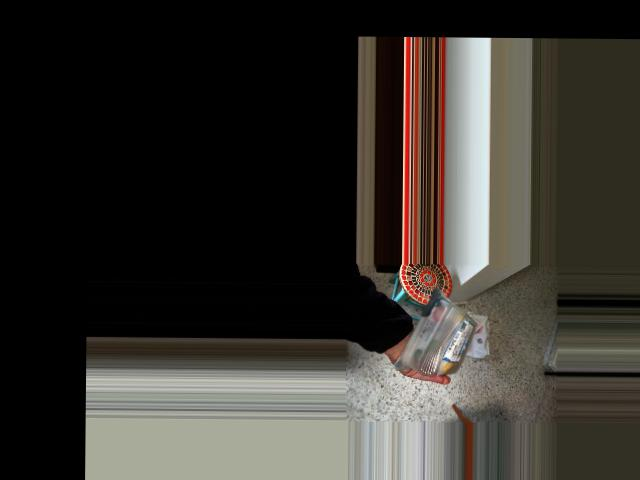cheese: (407, 318, 498, 358)
